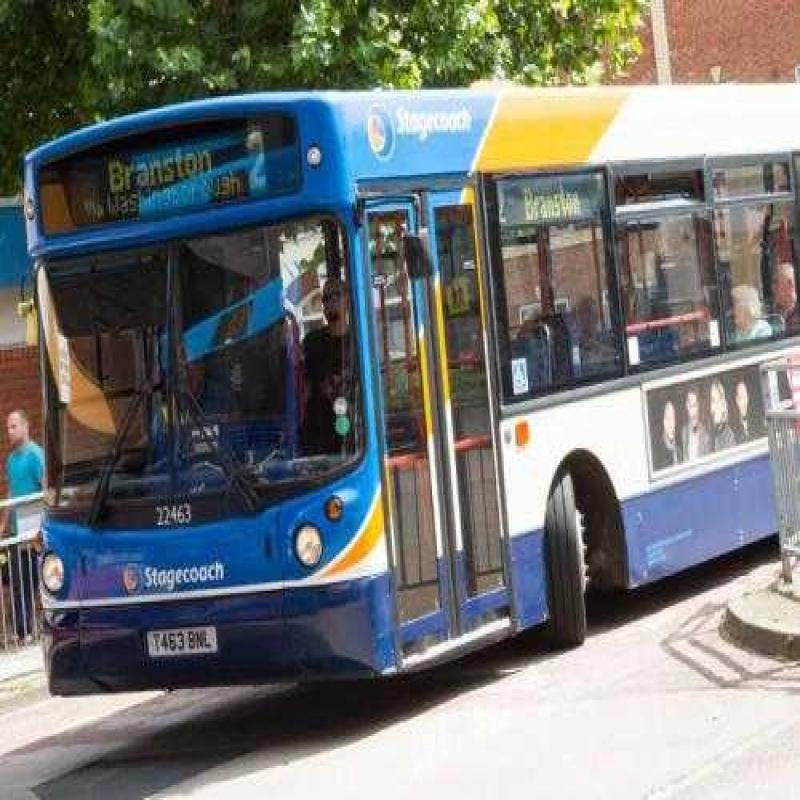bus: (16, 36, 800, 676)
